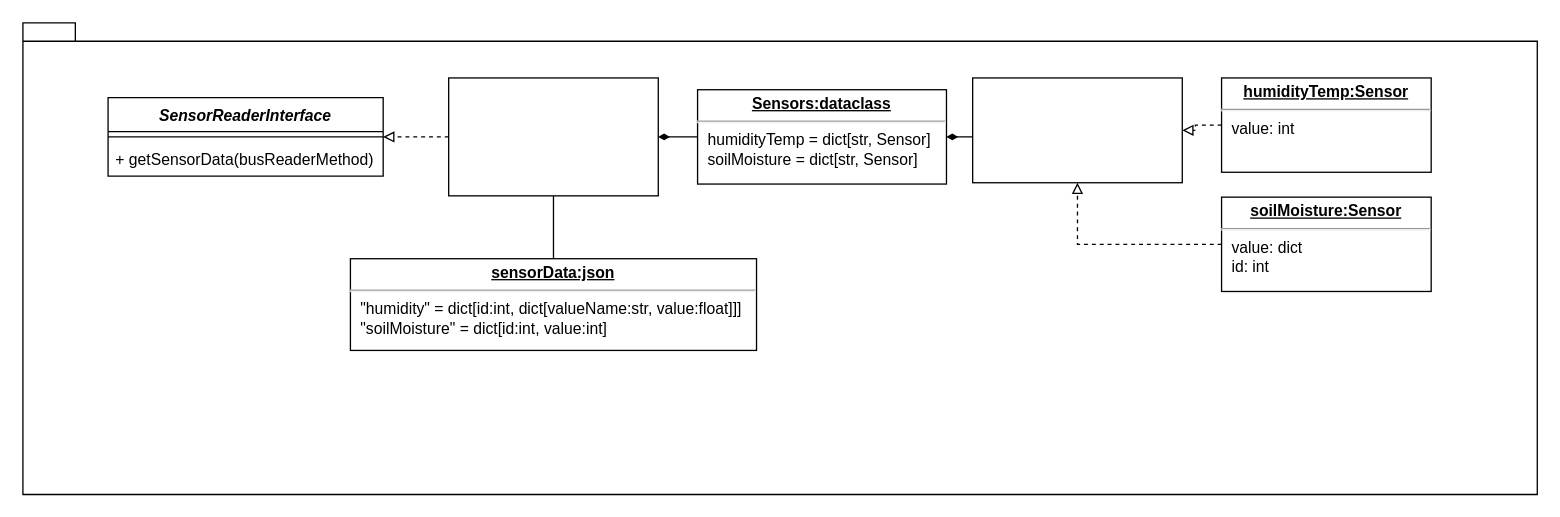
This 1560x517 diagram has some shape labels left out. The centre of each missing label's shape, as x and y in pixels:
"Sensor type: str id: int value: any" belongs at point 1076,130.
"SensorReader - sensors - analyzeSensorData" belongs at point 552,136.
